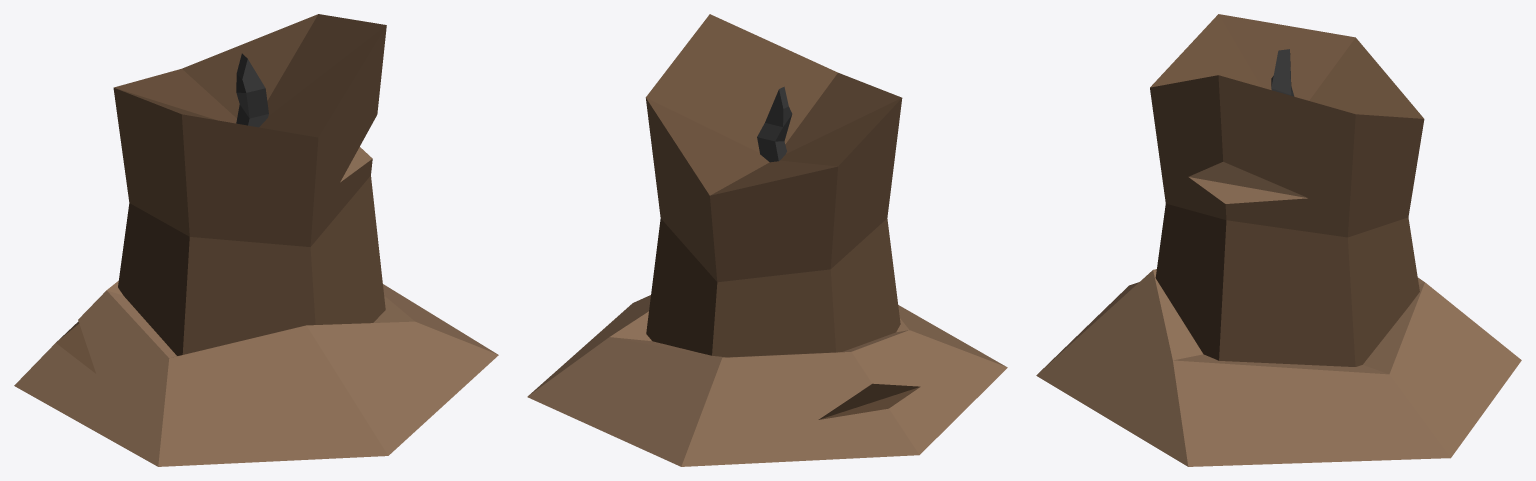
File: Candle_2_Brown.fbx
3 views of the same model, side by side, from view 1: azimuth 30°, elevation 25°; view 2: azimuth 150°, elevation 25°; view 3: azimuth 270°, elevation 25° (orthographic). The views are drawn at different scales.
Visible parts, largest first — view 1: Candle_2_Brown_Part_1, Candle_2_Brown_Part_2, Candle_2_Brown_Part_3; view 2: Candle_2_Brown_Part_1, Candle_2_Brown_Part_2, Candle_2_Brown_Part_3; view 3: Candle_2_Brown_Part_1, Candle_2_Brown_Part_2, Candle_2_Brown_Part_3.
Part boxes in pixels (x1,y1,x2,y2): Candle_2_Brown_Part_1: (56,14,386,373); Candle_2_Brown_Part_2: (14,147,498,466); Candle_2_Brown_Part_3: (236,53,268,127); Candle_2_Brown_Part_1: (645,14,920,419); Candle_2_Brown_Part_2: (527,295,1007,466); Candle_2_Brown_Part_3: (757,86,792,162); Candle_2_Brown_Part_1: (1150,14,1424,366); Candle_2_Brown_Part_2: (1036,161,1521,466); Candle_2_Brown_Part_3: (1271,49,1294,96).
Size of the model in its own units: 34.86 by 28.88 by 36.94.
